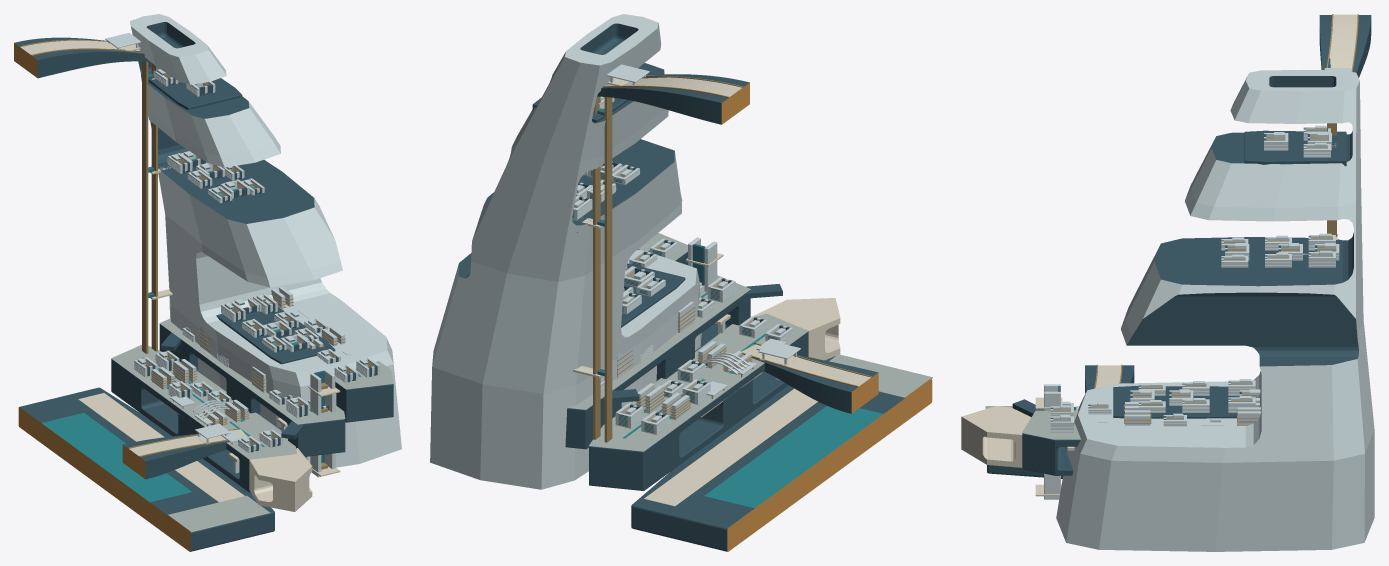
Rendered from SECTION_YZ_X0.glb.
3 renders of one model, left to right at view 1: azimuth 30°, elevation 25°; view 2: azimuth 150°, elevation 25°; view 3: azimuth 270°, elevation 25°, orthographic. The views are drawn at different scales.
Parts seen in each view (by area): view 1: EAST_WATER_CONTINUOUS_INHABITED_ESCARPMENT, LOWER_CIVIC_GROUND, Central_basin, EAST_WATER_T0_inhabited_landform, EAST_WATER_T1_inhabited_landform, EAST_WATER_PUBLIC_PROW, EAST_WATER_T0_walkable_ground, Lower_public_promenade.001, UPPER_CIVIC_VESSEL_sculpted_civic_vessel, LOWER_BOULEVARD_sculpted_civic_vessel, EAST_WATER_CLEFT_LIFT_reveal, Southern_civic_forecourt (+11 smaller); view 2: EAST_WATER_CONTINUOUS_INHABITED_ESCARPMENT, LOWER_CIVIC_GROUND, EAST_WATER_T0_inhabited_landform, Central_basin, Lower_public_promenade.001, EAST_WATER_T0_walkable_ground, EAST_WATER_T1_inhabited_landform, UPPER_CIVIC_VESSEL_sculpted_civic_vessel, EAST_WATER_CLEFT_LIFT_reveal, LOWER_BOULEVARD_sculpted_civic_vessel, EAST_WATER_PUBLIC_PROW, EAST_WATER_CLEFT_LIFT_reveal.001 (+5 smaller); view 3: EAST_WATER_CONTINUOUS_INHABITED_ESCARPMENT, EAST_WATER_PUBLIC_PROW, EAST_WATER_civic_sky_court.002, EAST_WATER_civic_sky_court, EAST_WATER_T2_inhabited_landform, UPPER_CIVIC_VESSEL_sculpted_civic_vessel, UPPER_CIVIC_VESSEL_public_street, EAST_WATER_T2_walkable_ground, EAST_WATER_LIFT_reveal.001, LOWER_BOULEVARD_sculpted_civic_vessel.
Boxes of the visible parts, box(x1,y1,x2,y2) form: EAST_WATER_CONTINUOUS_INHABITED_ESCARPMENT: box(130, 14, 401, 467); LOWER_CIVIC_GROUND: box(18, 387, 274, 551); Central_basin: box(41, 413, 191, 502); EAST_WATER_T0_inhabited_landform: box(111, 359, 250, 492); EAST_WATER_T1_inhabited_landform: box(159, 324, 345, 456); EAST_WATER_PUBLIC_PROW: box(249, 448, 312, 511); EAST_WATER_T0_walkable_ground: box(111, 345, 296, 459); Lower_public_promenade.001: box(78, 393, 244, 502); UPPER_CIVIC_VESSEL_sculpted_civic_vessel: box(14, 37, 149, 78); LOWER_BOULEVARD_sculpted_civic_vessel: box(122, 433, 247, 479); EAST_WATER_CLEFT_LIFT_reveal: box(142, 61, 148, 353); Southern_civic_forecourt: box(167, 495, 269, 532); EAST_WATER_CONTINUOUS_INHABITED_ESCARPMENT: box(430, 14, 701, 489); LOWER_CIVIC_GROUND: box(631, 356, 932, 551); EAST_WATER_T0_inhabited_landform: box(589, 331, 808, 490); Central_basin: box(704, 406, 883, 508); Lower_public_promenade.001: box(644, 388, 817, 506); EAST_WATER_T0_walkable_ground: box(589, 313, 808, 451); EAST_WATER_T1_inhabited_landform: box(565, 294, 750, 449); UPPER_CIVIC_VESSEL_sculpted_civic_vessel: box(597, 74, 749, 124); EAST_WATER_CLEFT_LIFT_reveal: box(604, 97, 612, 442); LOWER_BOULEVARD_sculpted_civic_vessel: box(743, 344, 878, 413); EAST_WATER_PUBLIC_PROW: box(753, 298, 840, 360); EAST_WATER_CLEFT_LIFT_reveal.001: box(593, 96, 600, 439); EAST_WATER_CONTINUOUS_INHABITED_ESCARPMENT: box(1056, 69, 1374, 551); EAST_WATER_PUBLIC_PROW: box(961, 406, 1031, 467); EAST_WATER_civic_sky_court.002: box(1244, 130, 1346, 166); EAST_WATER_civic_sky_court: box(1113, 386, 1239, 418); EAST_WATER_T2_inhabited_landform: box(1022, 433, 1080, 475); UPPER_CIVIC_VESSEL_sculpted_civic_vessel: box(1319, 15, 1371, 77); UPPER_CIVIC_VESSEL_public_street: box(1329, 14, 1357, 71); EAST_WATER_T2_walkable_ground: box(1022, 411, 1080, 439); EAST_WATER_LIFT_reveal.001: box(1044, 391, 1060, 499); LOWER_BOULEVARD_sculpted_civic_vessel: box(1085, 365, 1134, 393).
Bounding box in the file's own units: 1370 × 1884 × 1700.
